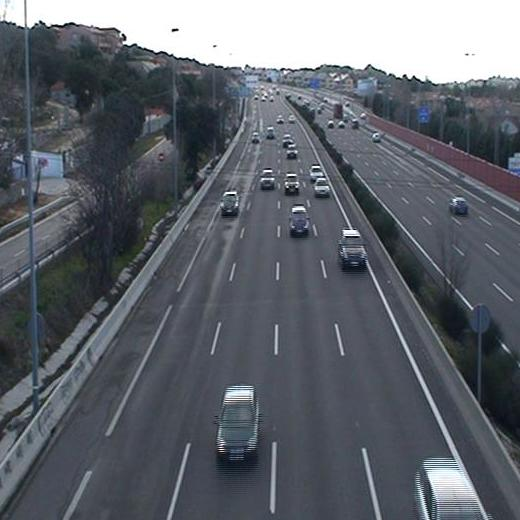car: (211, 383, 264, 464), (338, 229, 370, 269), (288, 205, 311, 235), (221, 190, 239, 216), (284, 173, 302, 195), (259, 167, 276, 190), (314, 177, 331, 198), (284, 142, 298, 158)
